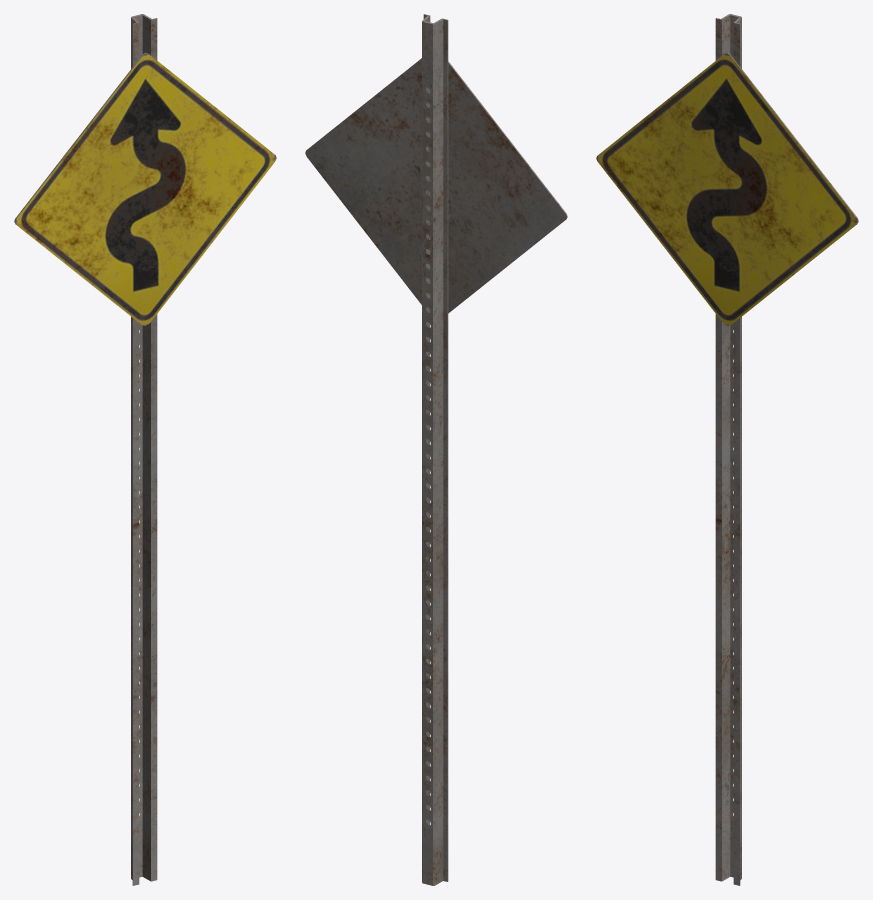
3 renders of one model, left to right at view 1: azimuth 30°, elevation 25°; view 2: azimuth 150°, elevation 25°; view 3: azimuth 330°, elevation 25°, orthographic.
Visible parts, largest first — view 1: geometry_0; view 2: geometry_0; view 3: geometry_0.
Part boxes in pixels (x1,y1,x2,y2): geometry_0: (14, 14, 276, 885); geometry_0: (305, 14, 567, 885); geometry_0: (596, 14, 858, 885).
Bounding box in the file's own units: 0.9031 × 2.84 × 0.0543.
1 material, 1 textured.
